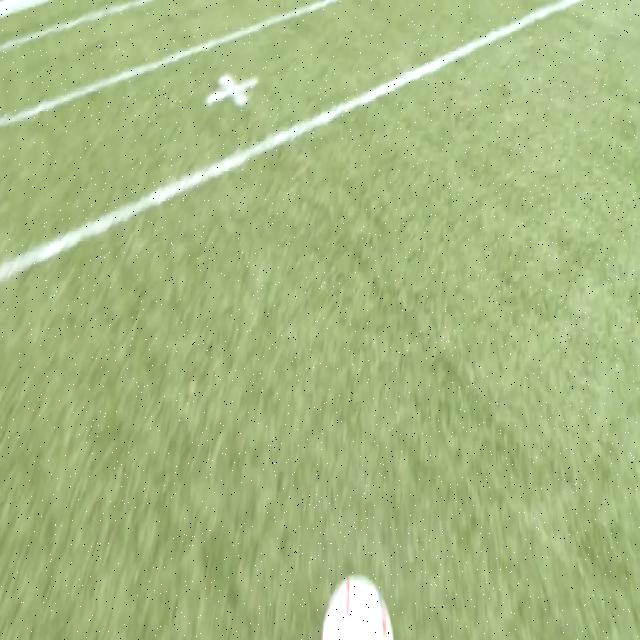ball: (322, 576, 394, 640)
